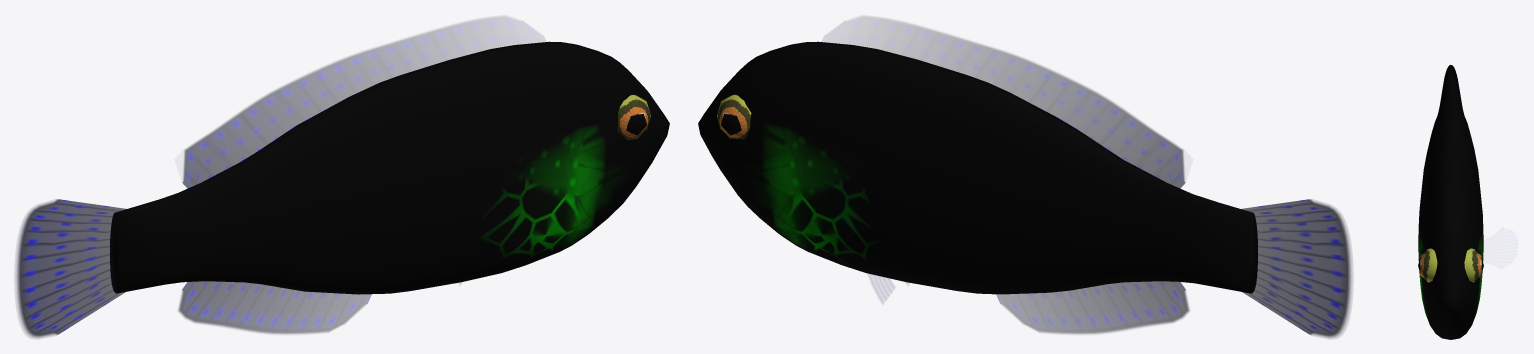
Rendered from leopard_wrasse_lod1.glb.
3 views of the same model, side by side, from view 1: azimuth 30°, elevation 25°; view 2: azimuth 150°, elevation 25°; view 3: azimuth 270°, elevation 25° (orthographic). The views are drawn at different scales.
Parts seen in each view (by area): view 1: Body, FinDorsal, FinCaudal, FinAnal, EyeR; view 2: Body, FinDorsal, FinCaudal, FinAnal, EyeL; view 3: Body, EyeL, EyeR.
Boxes of the visible parts, <box> form: Body: <box>110,41,669,294</box>; FinDorsal: <box>182,16,541,189</box>; FinCaudal: <box>15,199,127,338</box>; FinAnal: <box>178,281,371,333</box>; EyeR: <box>617,95,650,140</box>; Body: <box>698,41,1257,294</box>; FinDorsal: <box>826,16,1185,189</box>; FinCaudal: <box>1240,199,1352,338</box>; FinAnal: <box>996,281,1189,333</box>; EyeL: <box>717,94,751,139</box>; Body: <box>1418,65,1483,339</box>; EyeL: <box>1464,248,1483,282</box>; EyeR: <box>1418,248,1437,282</box>.
Size of the model in its own units: 1 by 0.4077 by 0.2379.
Materials: 4 (3 with a texture image).
